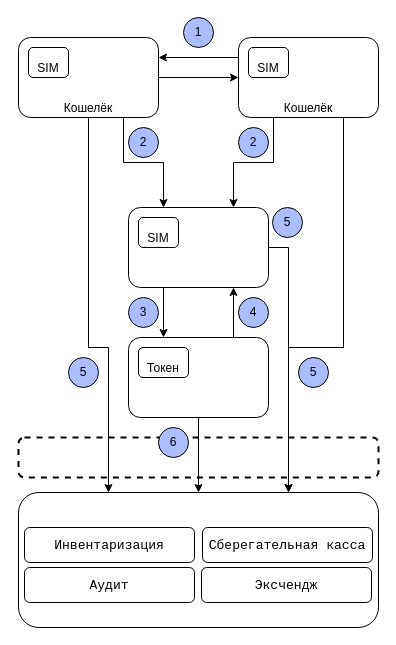
The diagram is 396 pixels wide and 645 high, and some of its shapes have lost their labels. The box of each missing label's shape, as (x1, y1, x2, y2) in pixels:
Банкомат: (128, 206, 268, 288)
Процессинг: (18, 492, 378, 628)
СУБ: (128, 336, 268, 418)
Шлюз: (17, 436, 379, 478)
